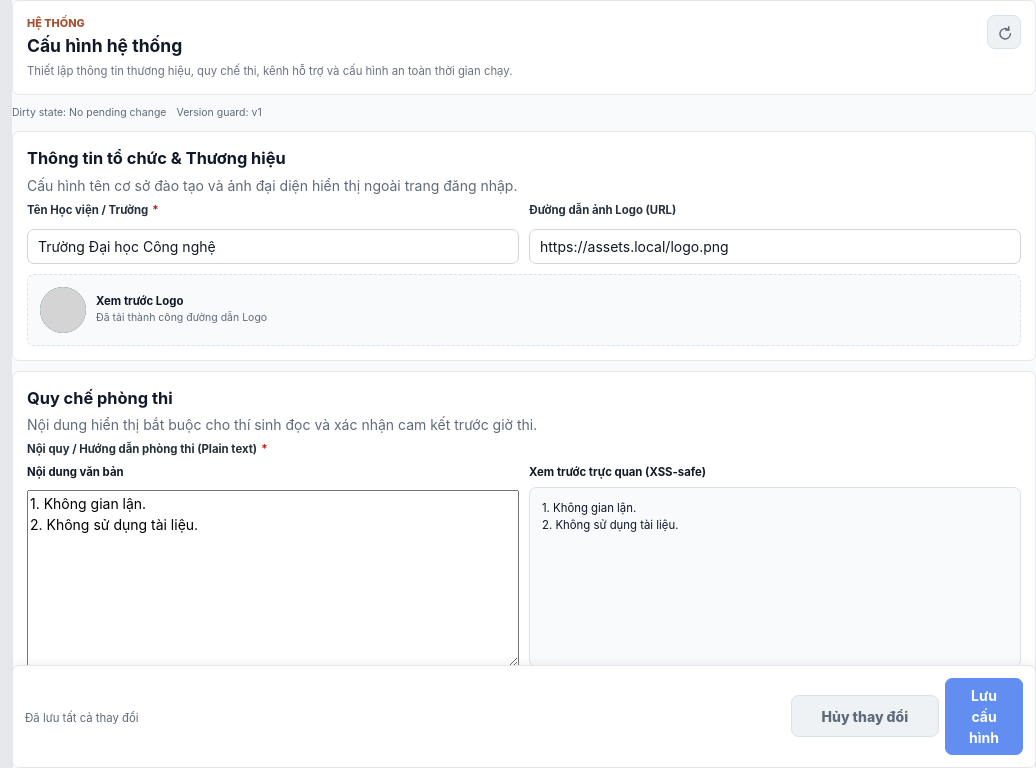
SettingsPage UI and validations › validates required academy name
Clear the field labelled "Tên Học viện / Trường *" at {"x": 273, "y": 246}, box [27,229,519,264]
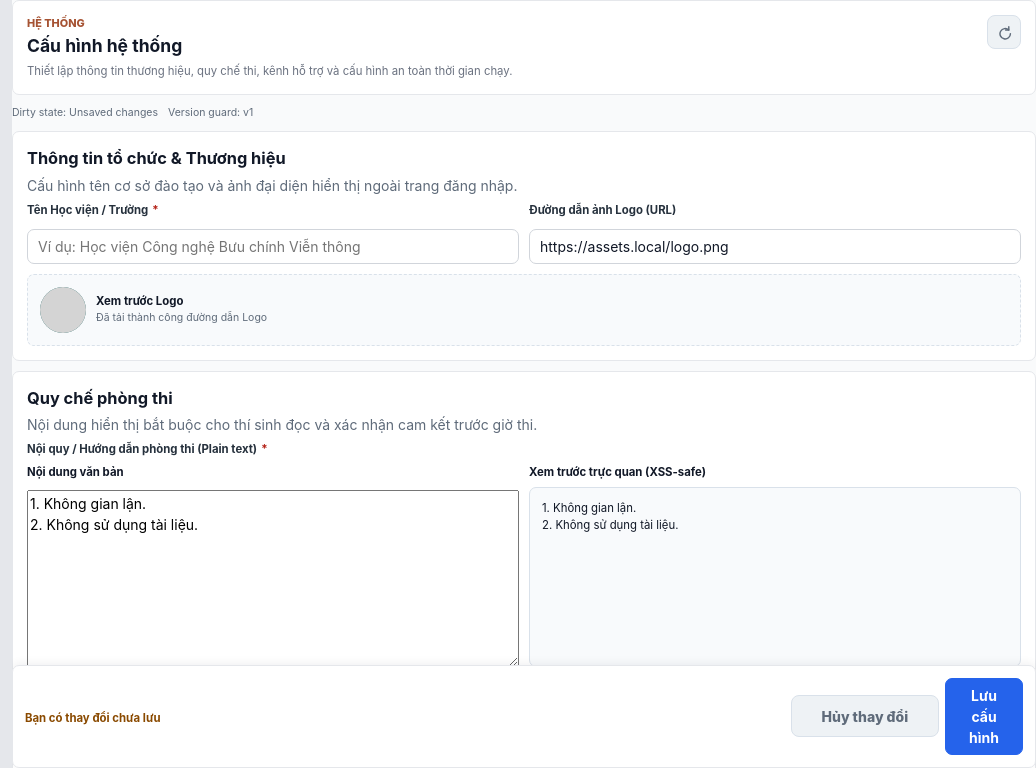
Click the button "Lưu cấu hình".
click(984, 716)  # box [945,678,1023,755]
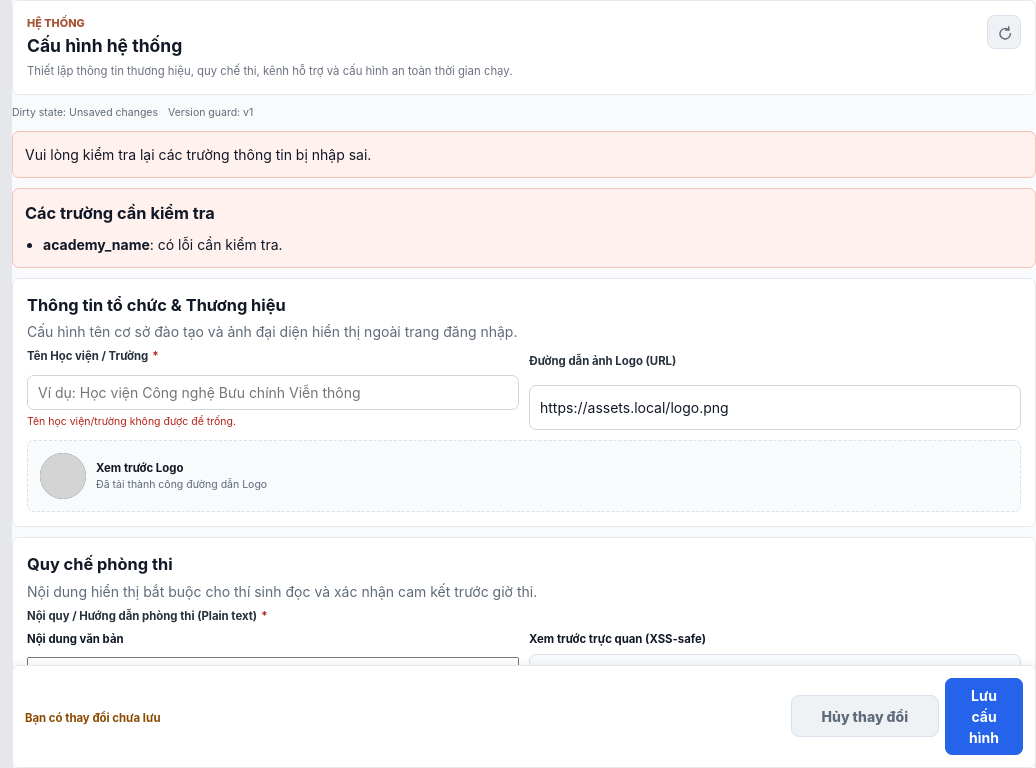
Now the text "Tên học viện/trường không được để trống." is shown, box [27,415,236,428]
